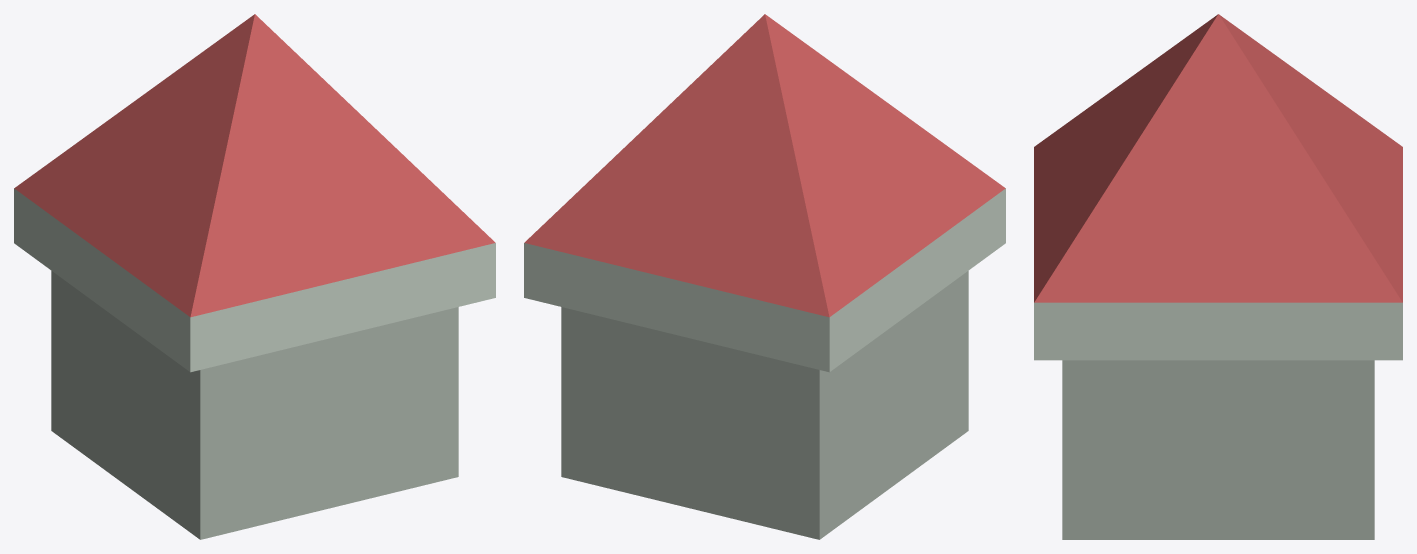
File: tile_023.fbx
3 views of the same model, side by side, from view 1: azimuth 30°, elevation 25°; view 2: azimuth 150°, elevation 25°; view 3: azimuth 270°, elevation 25° (orthographic). The views are drawn at different scales.
Parts seen in each view (by area): view 1: tile_023; view 2: tile_023; view 3: tile_023.
Part boxes in pixels (x1,y1,x2,y2): tile_023: (14, 14, 495, 539); tile_023: (524, 14, 1005, 539); tile_023: (1034, 14, 1402, 539).
Bounding box in the file's own units: 6.97 × 9.6 × 6.97.
